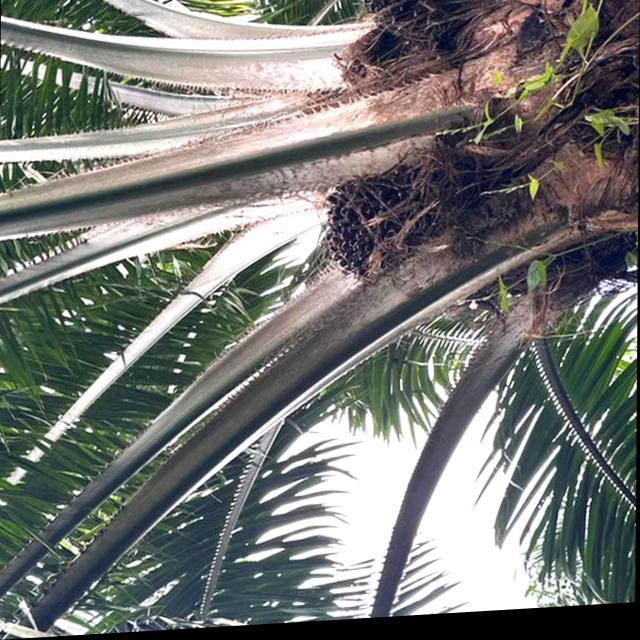ripe: (317, 163, 426, 294)
